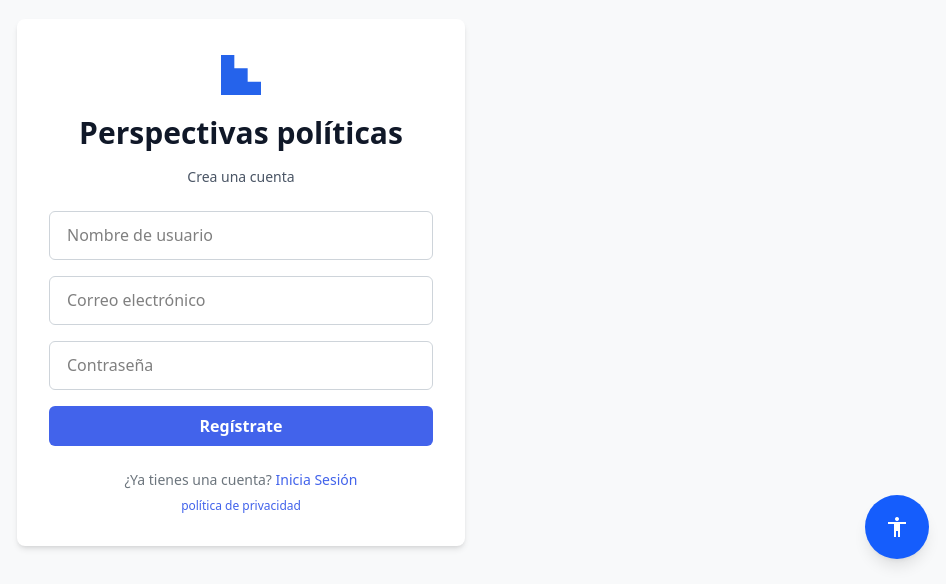
Test: Register Component › shows password validation error for short password
The width and height of the screenshot is (946, 584).
AÑADIDO: Llena los otros campos requeridos con datos válidos
Step 1. Type "testuser" into the field with placeholder "Nombre de usuario" → {"x": 241, "y": 235}, box [49,210,433,260]
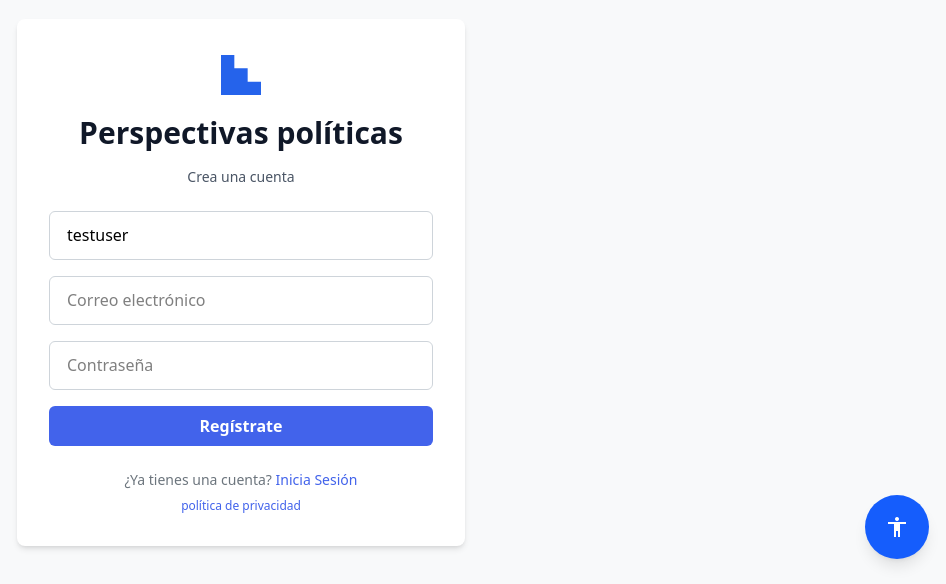
Step 2. Type "test@example.com" into the field with placeholder "Correo electrónico" → {"x": 241, "y": 300}, box [49,276,433,324]
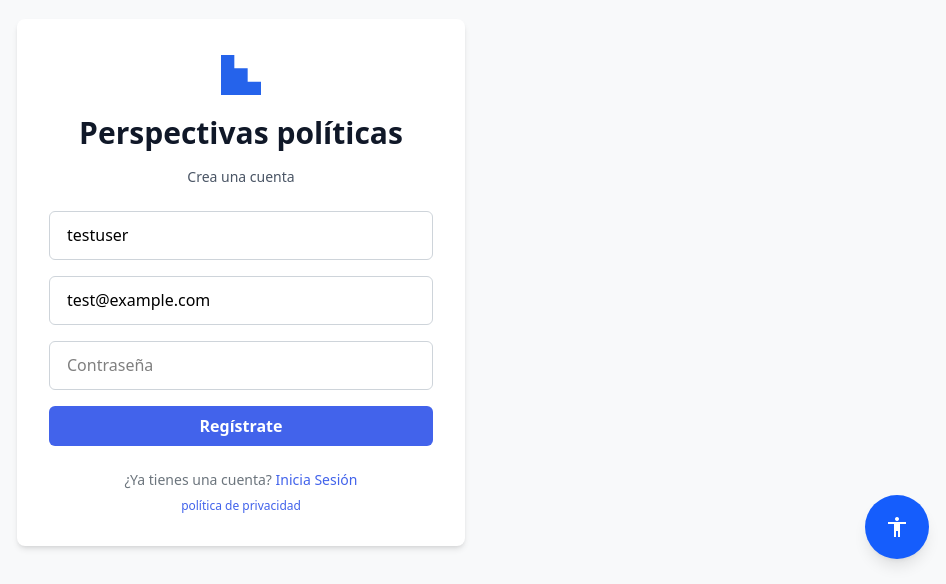
Ahora sí, introduce la contraseña corta que quieres probar
Step 3. Type "short" into the password field with placeholder "Contraseña" → {"x": 241, "y": 365}, box [49,340,433,390]
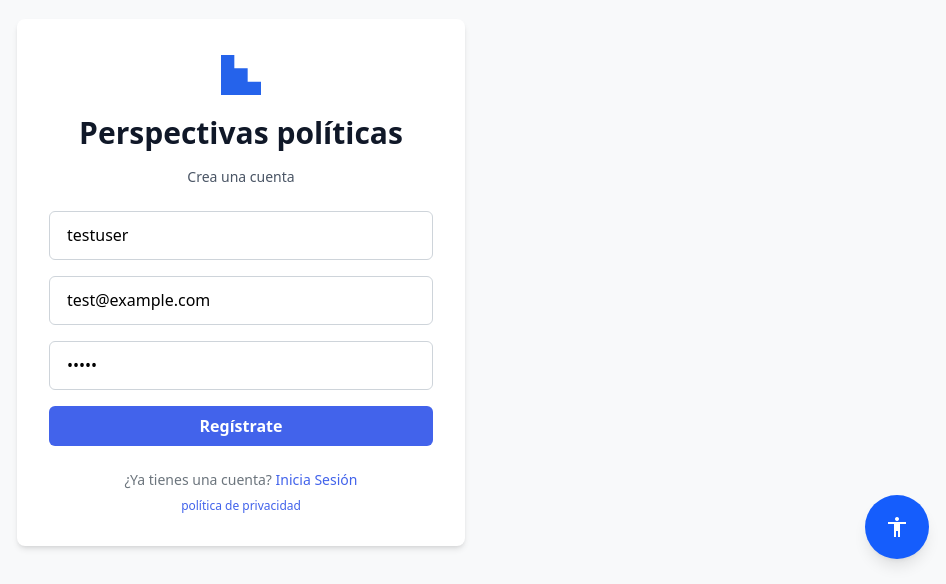
Haz clic para enviar
Step 4. Click the button "Regístrate" → {"x": 241, "y": 426}, box [49,406,433,446]
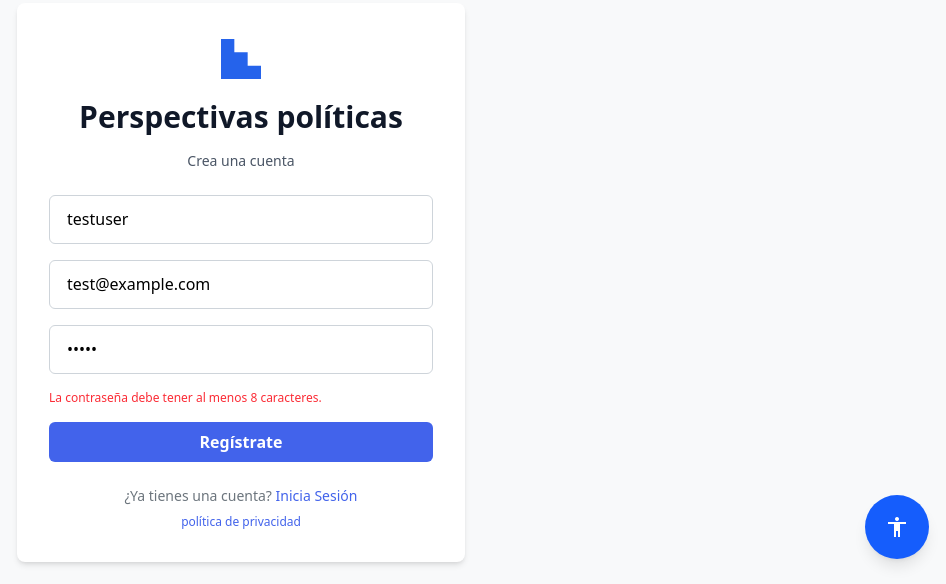
Check: the text "La contraseña debe tener al menos 8 caracteres." is shown, box [49,390,322,406]
